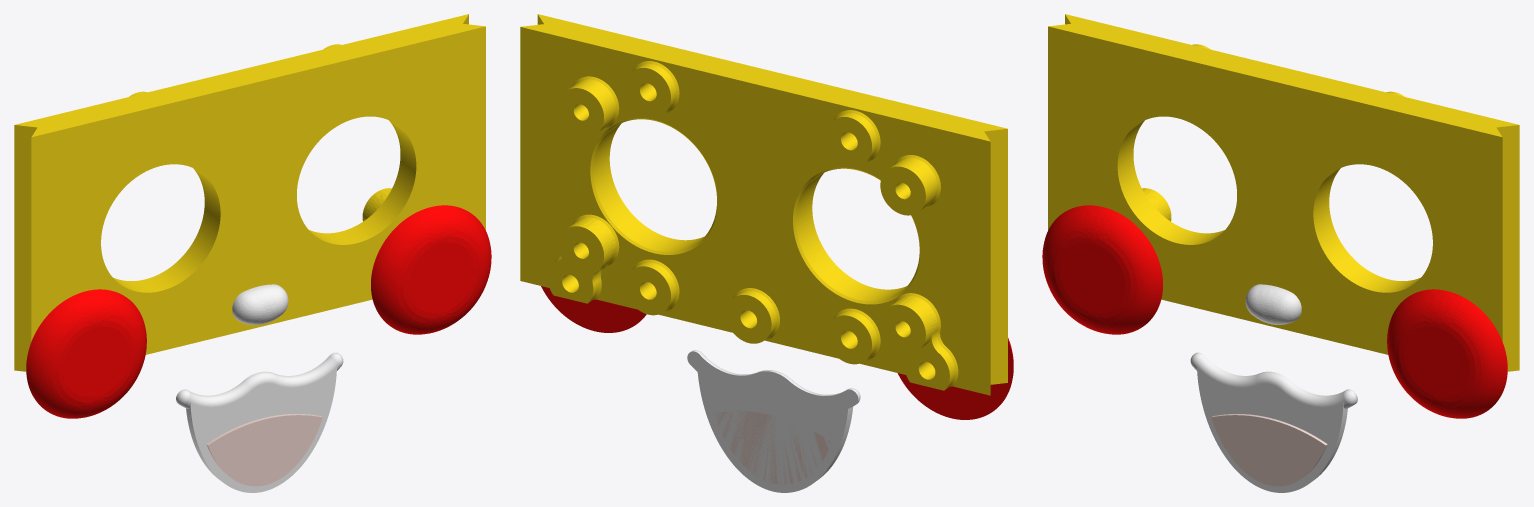
File: Face_Pika.glb
3 renders of one model, left to right at view 1: azimuth 30°, elevation 25°; view 2: azimuth 150°, elevation 25°; view 3: azimuth 330°, elevation 25°, orthographic. The views are drawn at different scales.
Parts seen in each view (by area): view 1: Node1, Node3, Node2, Node4; view 2: Node1, Node2, Node3, Node4; view 3: Node1, Node3, Node2, Node4.
Part boxes in pixels (x1=…): Node1: x1=14, y1=14, x2=485, y2=371; Node3: x1=26, y1=205, x2=491, y2=418; Node2: x1=176, y1=284, x2=343, y2=492; Node4: x1=206, y1=414, x2=322, y2=486; Node1: x1=520, y1=14, x2=1007, y2=395; Node2: x1=687, y1=350, x2=860, y2=492; Node3: x1=541, y1=286, x2=1013, y2=419; Node4: x1=714, y1=411, x2=830, y2=484; Node1: x1=1048, y1=14, x2=1519, y2=371; Node3: x1=1042, y1=205, x2=1507, y2=418; Node2: x1=1190, y1=284, x2=1357, y2=492; Node4: x1=1211, y1=414, x2=1327, y2=486.
Bounding box in the file's own units: 63.42 × 52.91 × 9.5.
